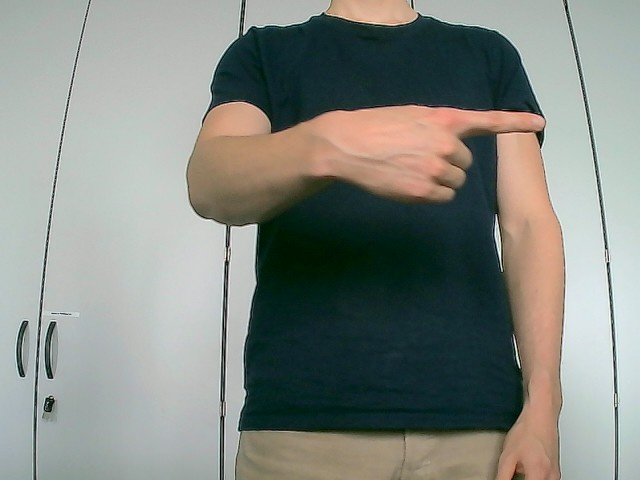left: (314, 103, 546, 205)
